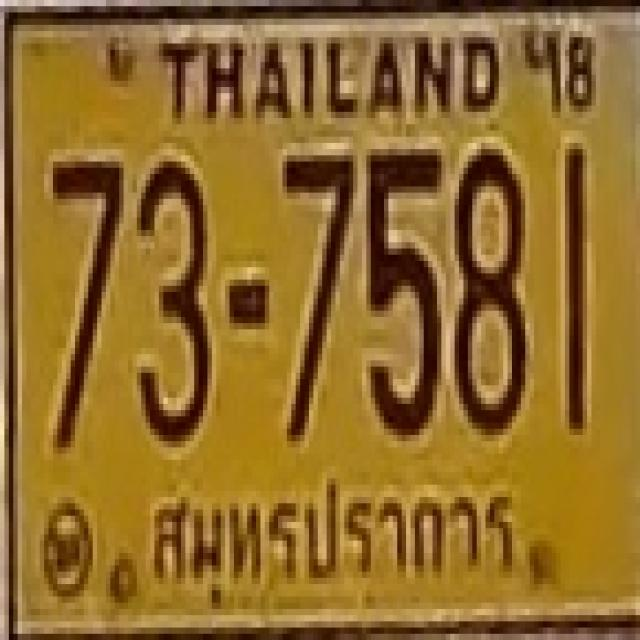1: (563, 143, 585, 422)
3: (132, 156, 208, 442)
5: (364, 143, 439, 422), (362, 146, 437, 314)
7: (49, 153, 119, 444), (280, 146, 351, 432), (49, 155, 119, 404), (49, 152, 119, 351), (280, 146, 351, 339), (280, 149, 351, 317)
8: (450, 143, 521, 429)
SPK: (124, 466, 534, 614)
